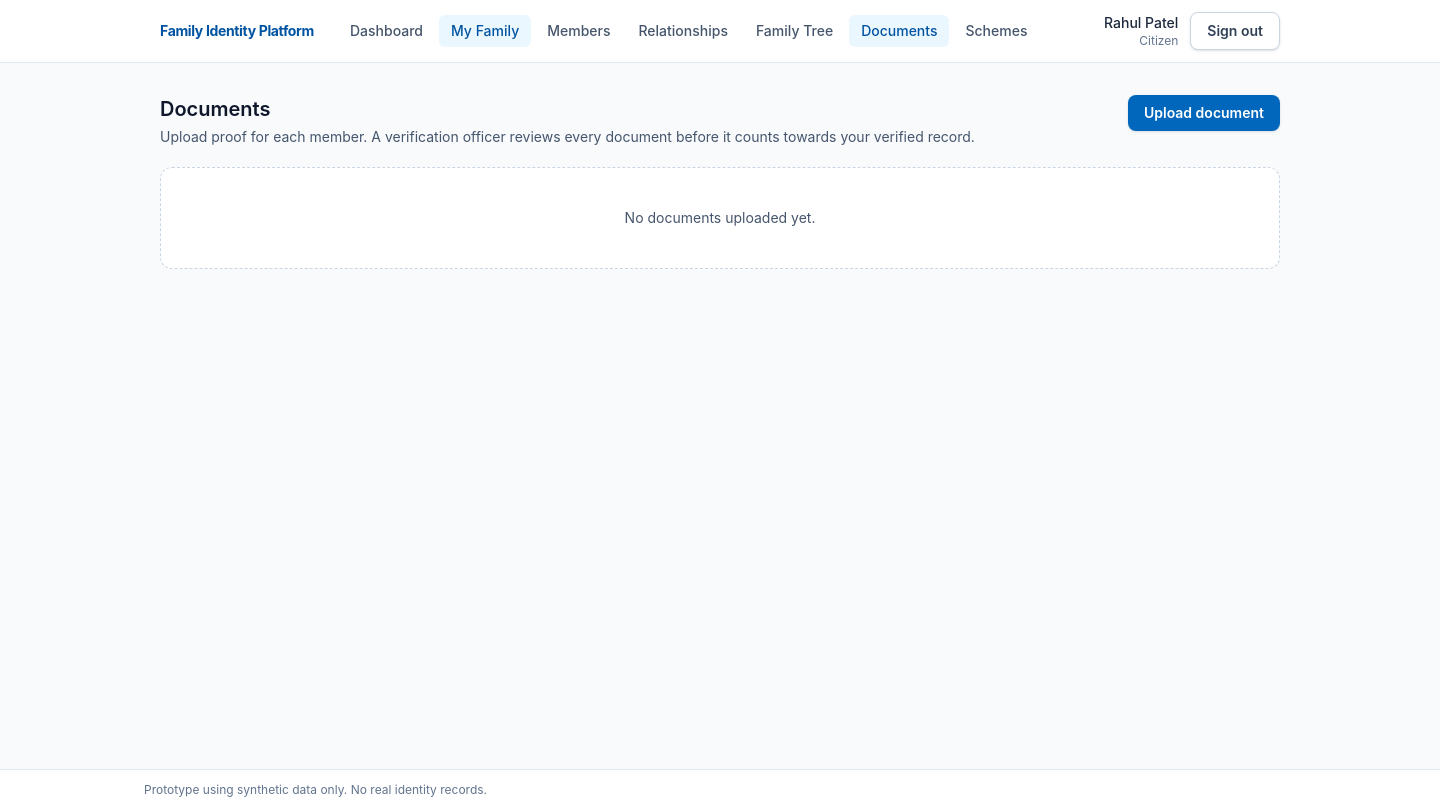
Test: FamilyDocumentsPage — uploading › states the accepted formats and size limit
Check: the text "No documents uploaded yet." is shown, box 160,167 -> 1280,269
What coordinates should you click on to do the following:
click the button "Upload document"
I would click on:
 (1204, 113)
Its box is 1128,95 -> 1280,131.
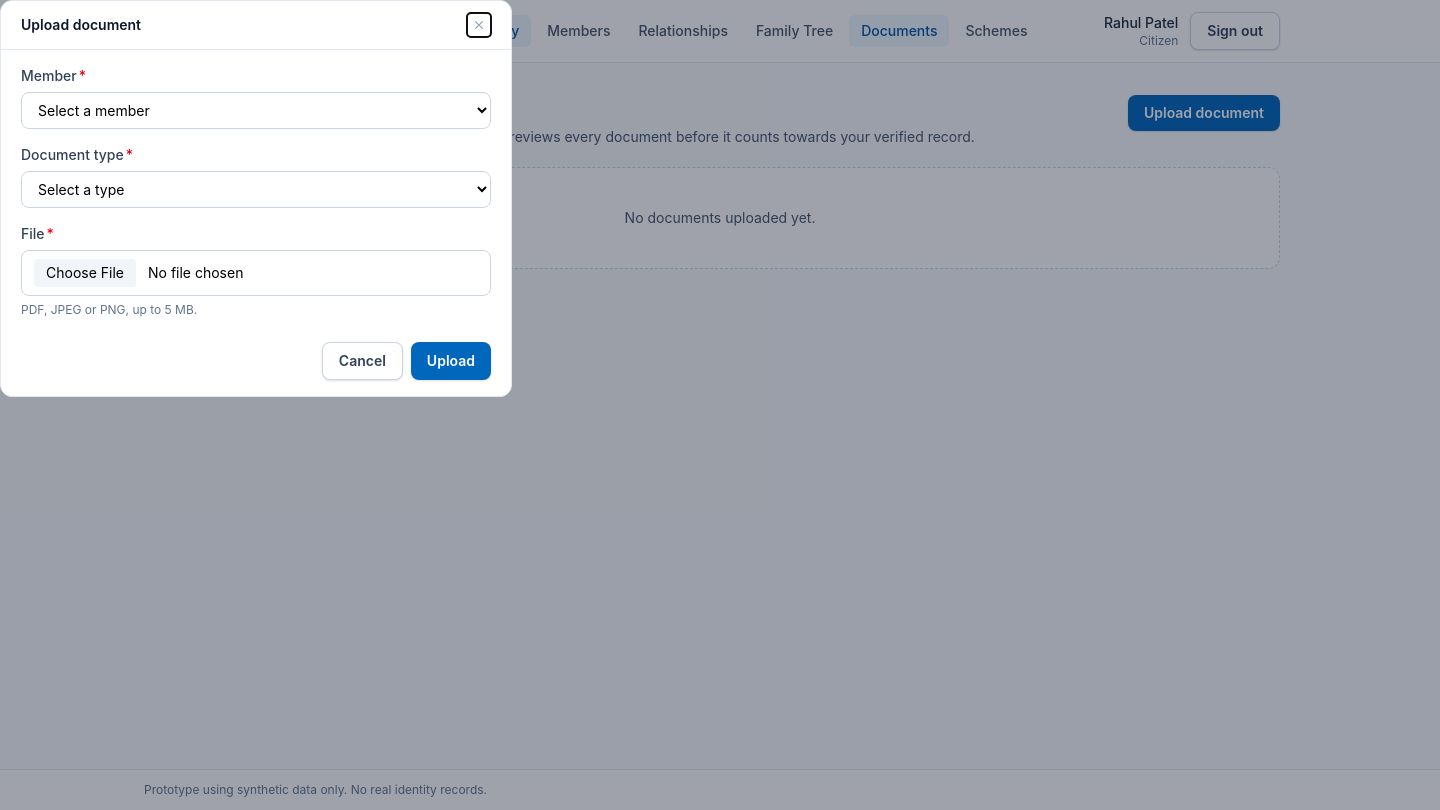
Check: the text "PDF, JPEG or PNG, up to 5 MB." is shown, box 21,302 -> 197,317
